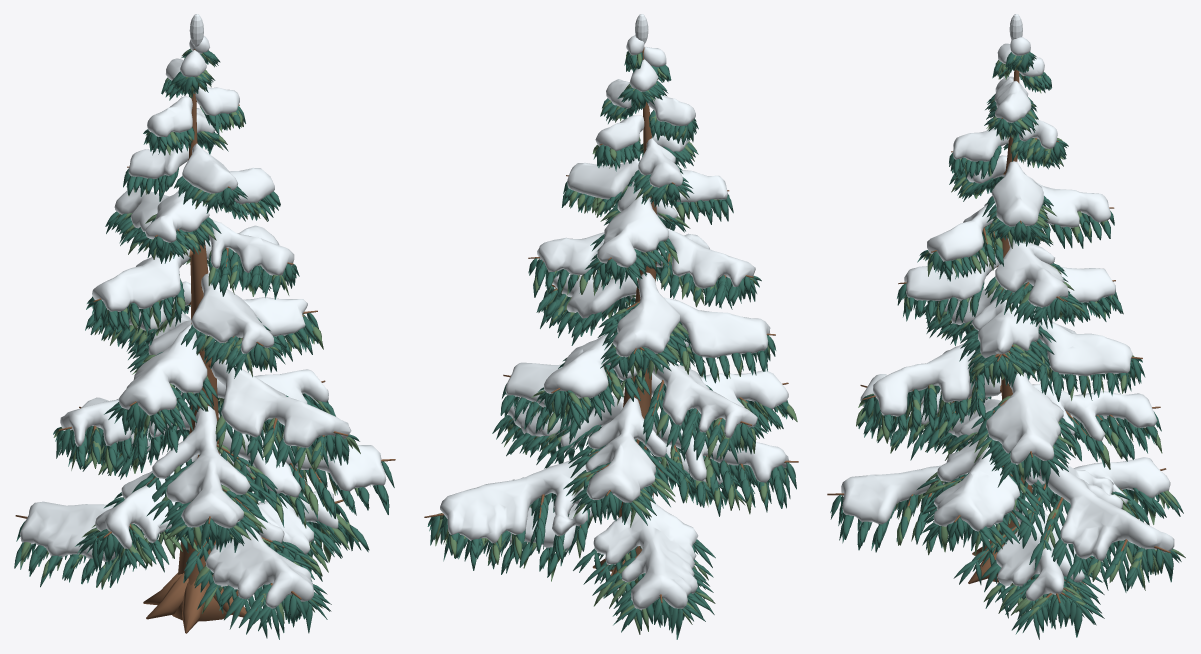
Rendered from ln-r01c-hero-spruce.glb.
3 views of the same model, side by side, from view 1: azimuth 30°, elevation 25°; view 2: azimuth 150°, elevation 25°; view 3: azimuth 270°, elevation 25° (orthographic). The views are drawn at different scales.
Parts seen in each view (by area): view 1: Snow quilt 00, Layered sculpted needle fingers, Subtle sage needle accents, Connected trunk roots and bough skeleton; view 2: Snow quilt 00, Layered sculpted needle fingers, Subtle sage needle accents, Connected trunk roots and bough skeleton; view 3: Snow quilt 00, Layered sculpted needle fingers, Subtle sage needle accents, Connected trunk roots and bough skeleton.
Part boxes in pixels (bbox=[...]): Snow quilt 00: bbox=[20, 14, 386, 608]; Layered sculpted needle fingers: bbox=[14, 48, 394, 639]; Subtle sage needle accents: bbox=[20, 49, 369, 623]; Connected trunk roots and bough skeleton: bbox=[15, 49, 395, 633]; Snow quilt 00: bbox=[440, 14, 788, 610]; Layered sculpted needle fingers: bbox=[427, 51, 796, 639]; Subtle sage needle accents: bbox=[435, 52, 797, 634]; Connected trunk roots and bough skeleton: bbox=[424, 47, 798, 603]; Snow quilt 00: bbox=[841, 14, 1174, 601]; Layered sculpted needle fingers: bbox=[830, 52, 1183, 639]; Subtle sage needle accents: bbox=[856, 53, 1185, 620]; Connected trunk roots and bough skeleton: bbox=[827, 69, 1170, 603].
Size of the model in its own units: 5.21 by 9.68 by 5.63.
